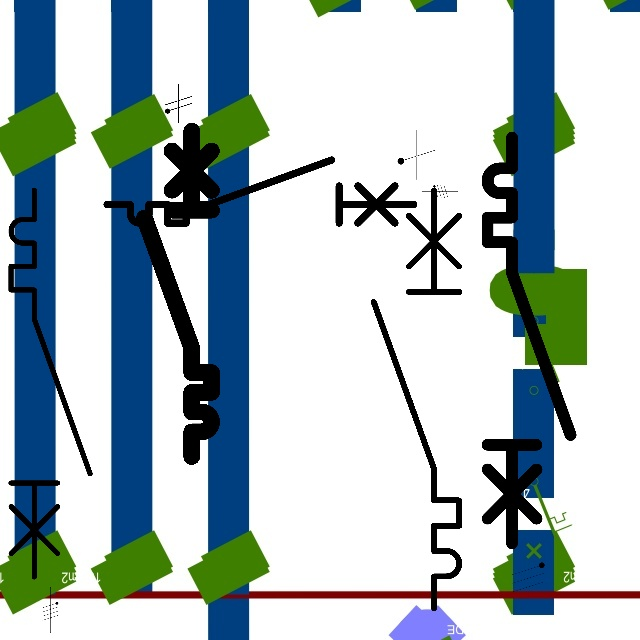interruptor_termomagnetico: (363, 179, 470, 618), (477, 127, 581, 554), (1, 180, 100, 587), (136, 122, 220, 465), (99, 152, 421, 231)
